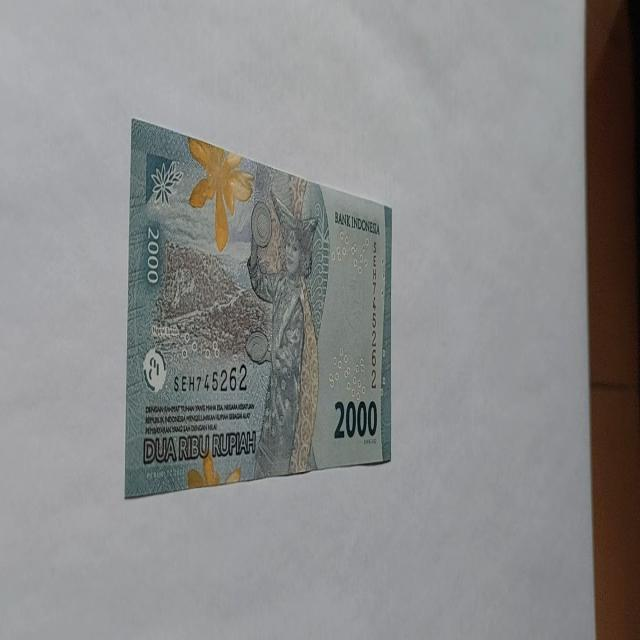dua ribu rupiah: (124, 120, 393, 497), (244, 189, 320, 479), (187, 135, 254, 253)
